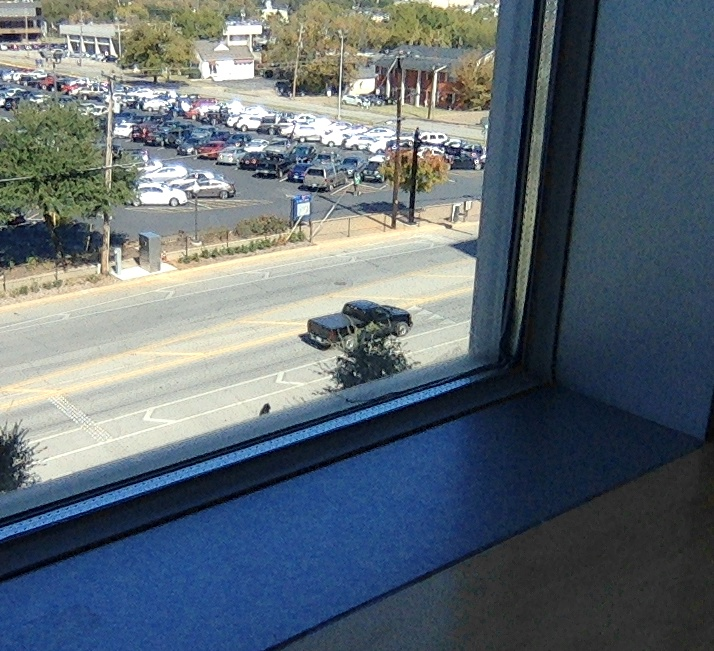car: (300, 300, 414, 351)
